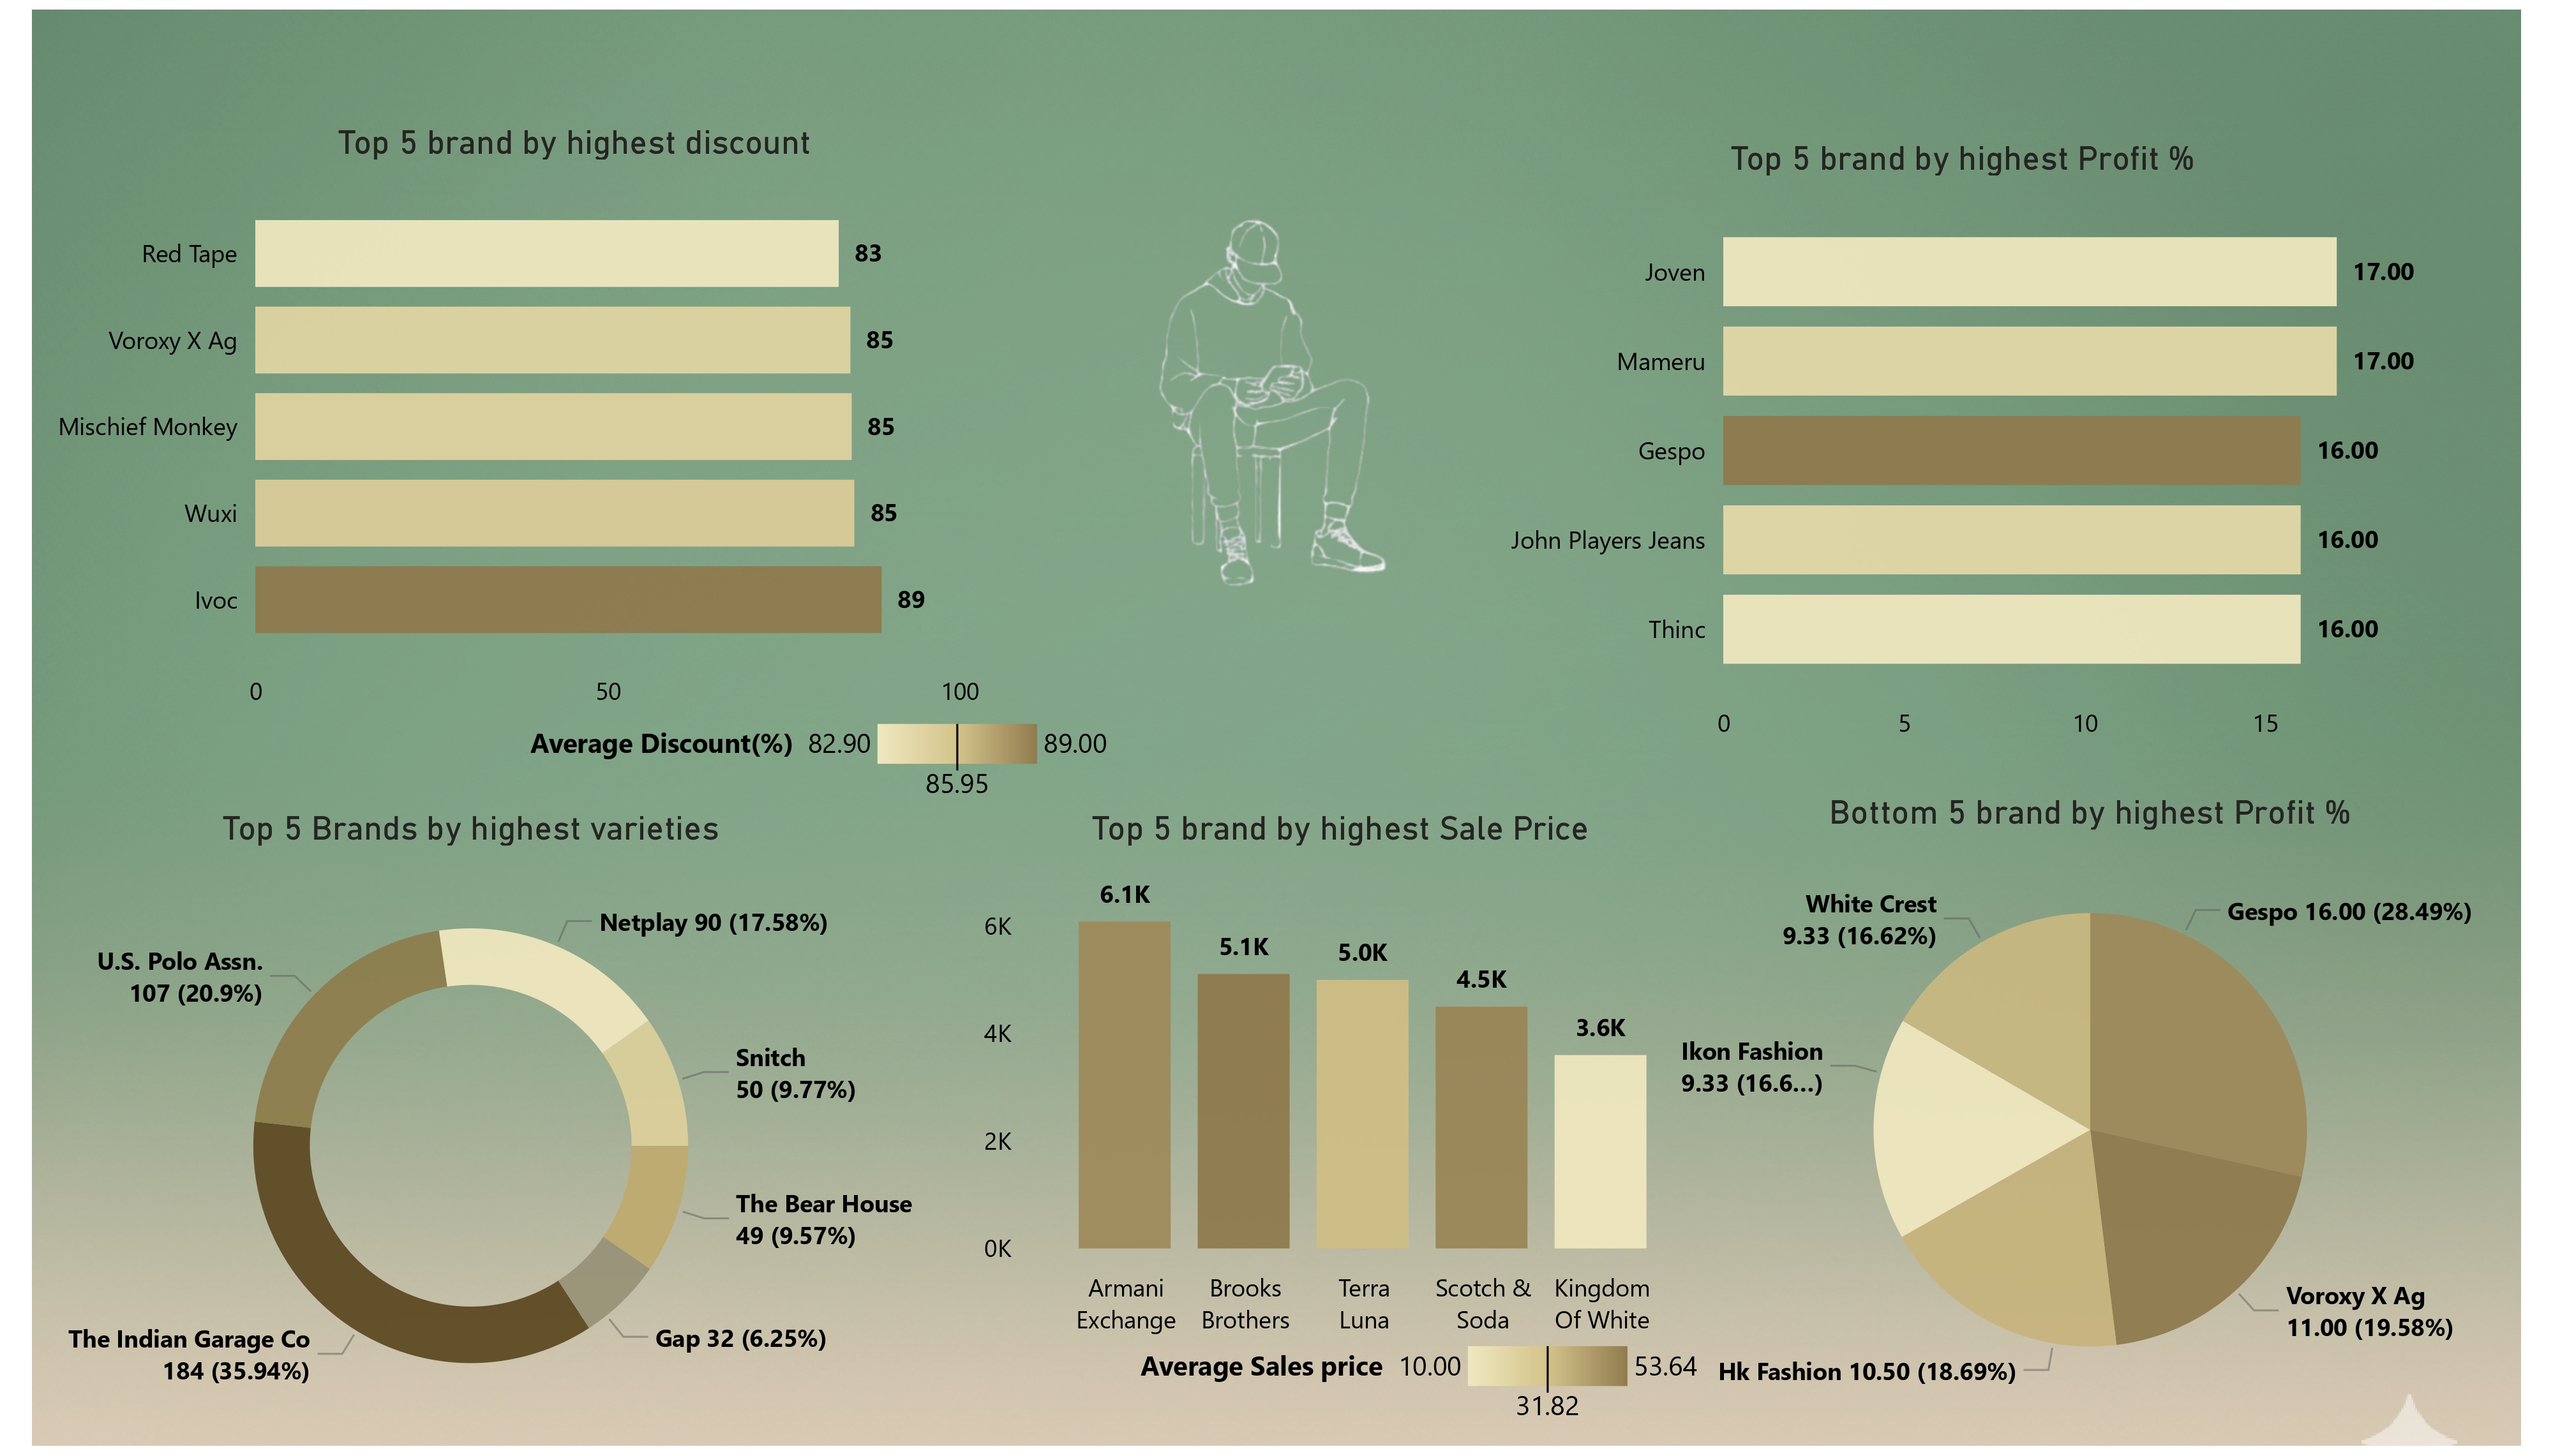

This screenshot's page, from the dashboard's own definition file:
{"tool":"powerbi","page":{"name":"Men Fashion","canvas":[1280,720],"ordinal":1},"visuals":[{"type":"image","box":[496,32,280,344],"z":0},{"type":"clusteredBarChart","title":"Top 5 brand by highest discount","fields":{"Category":["Men+Tshirt.Brand"],"Y":["Avg(Men+Tshirt.Discount_%)"]},"box":[16,56,544,344],"z":1000},{"type":"donutChart","title":"Top 5 Brands by highest varieties","fields":{"Category":["Men+Tshirt.Brand"],"Y":["CountNonNull(Men+Tshirt.Title)"]},"box":[0,400,472,320],"z":2000},{"type":"clusteredColumnChart","title":"Top 5 brand by highest Sale Price","fields":{"Category":["Men+Tshirt.Brand"],"Y":["Avg(Men+Tshirt.Sale_Price)"]},"box":[488,400,368,312],"z":3000},{"type":"clusteredBarChart","title":"Top 5 brand by highest Profit %","fields":{"Category":["Men+Tshirt.Brand"],"Y":["Avg(Men+Tshirt.Profit %)"]},"box":[744,64,480,312],"z":4000},{"type":"pieChart","title":"Bottom 5 brand by highest Profit %","fields":{"Category":["Men+Tshirt.Brand"],"Y":["Avg(Men+Tshirt.Profit %)"]},"box":[816,392,464,320],"z":5000}]}

Visuals, with their boxes in screenshot pixels (x1, y1, x2, y2), scaled from the page's 1280x720 canvas onto the 2553x1456 screenshot:
image: <region>989, 64, 1548, 761</region>
"Top 5 brand by highest discount" clusteredBarChart: <region>32, 113, 1117, 809</region>
"Top 5 Brands by highest varieties" donutChart: <region>0, 809, 941, 1455</region>
"Top 5 brand by highest Sale Price" clusteredColumnChart: <region>973, 809, 1707, 1440</region>
"Top 5 brand by highest Profit %" clusteredBarChart: <region>1484, 130, 2441, 761</region>
"Bottom 5 brand by highest Profit %" pieChart: <region>1628, 792, 2552, 1440</region>
